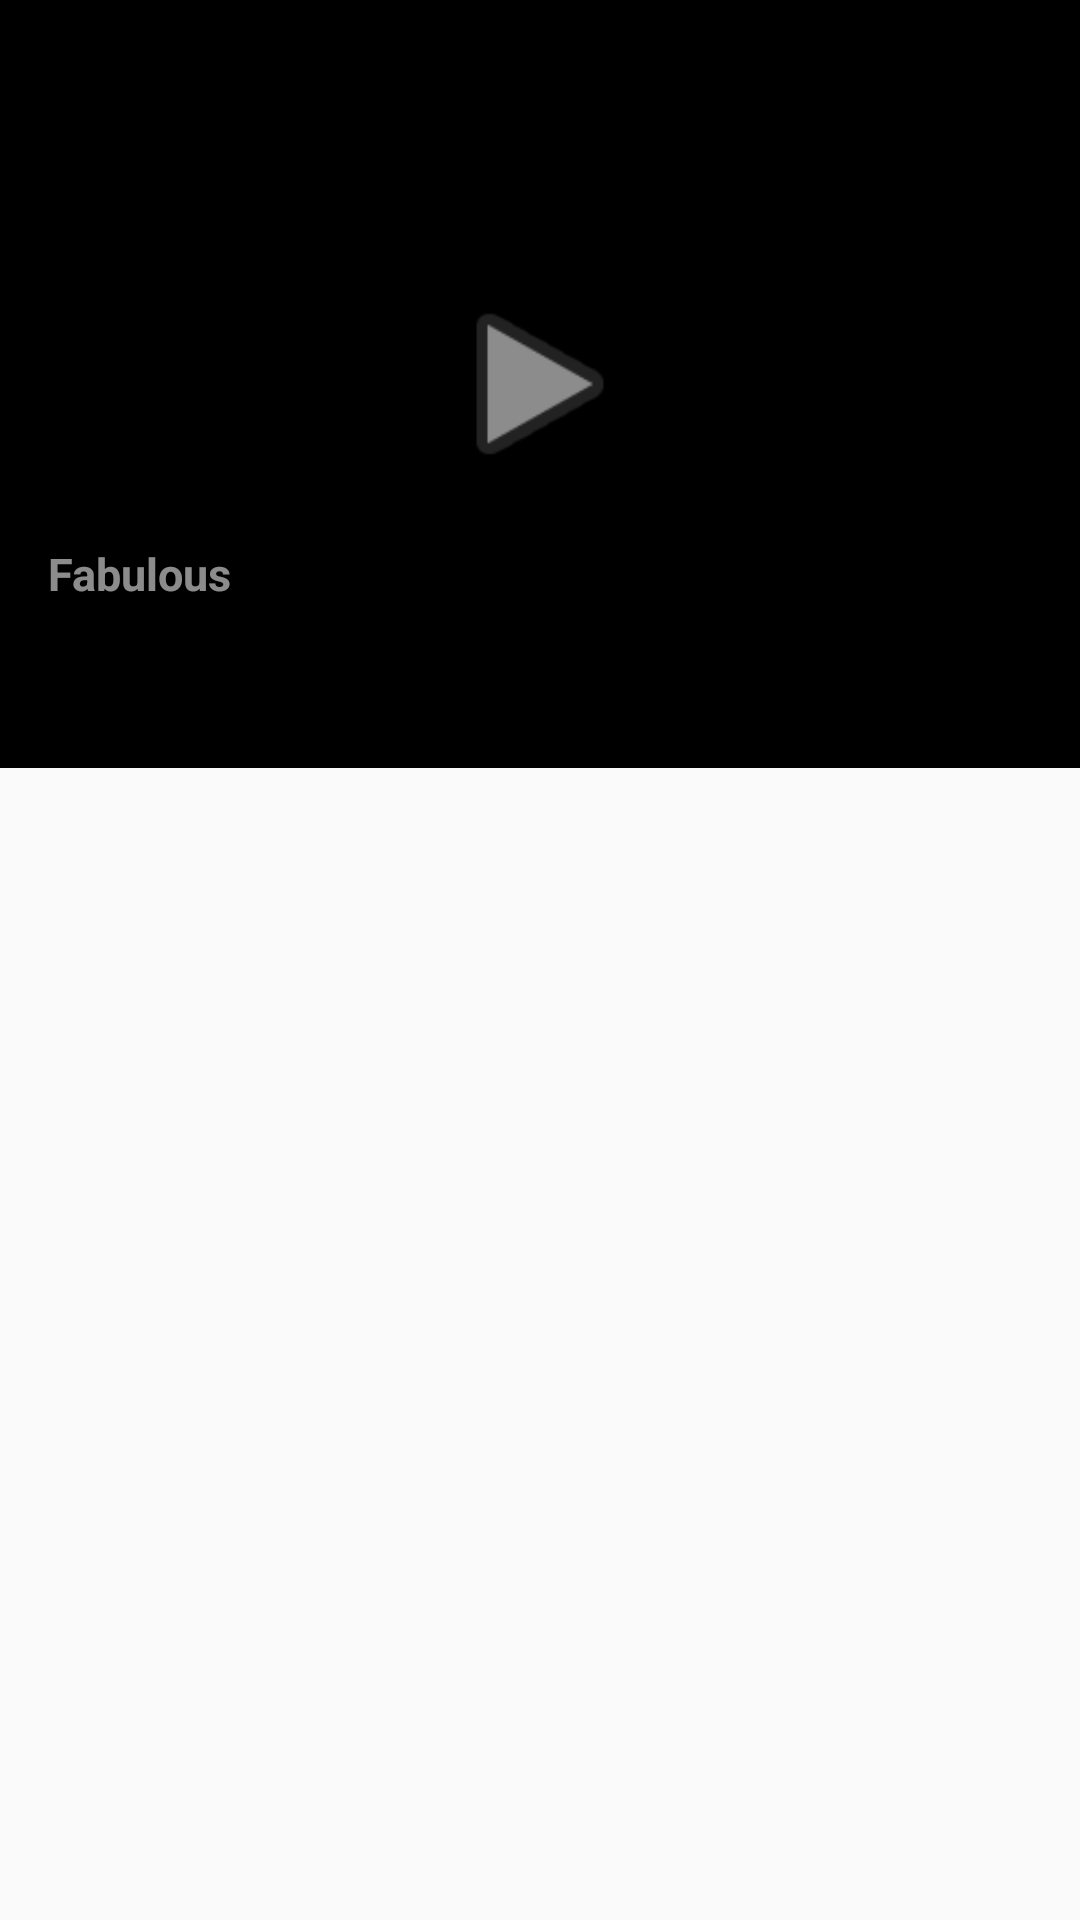

Point at icon controls on the screen. Image size 1080x1920, points as (x=x, y=y).
play: (x=540, y=384)
